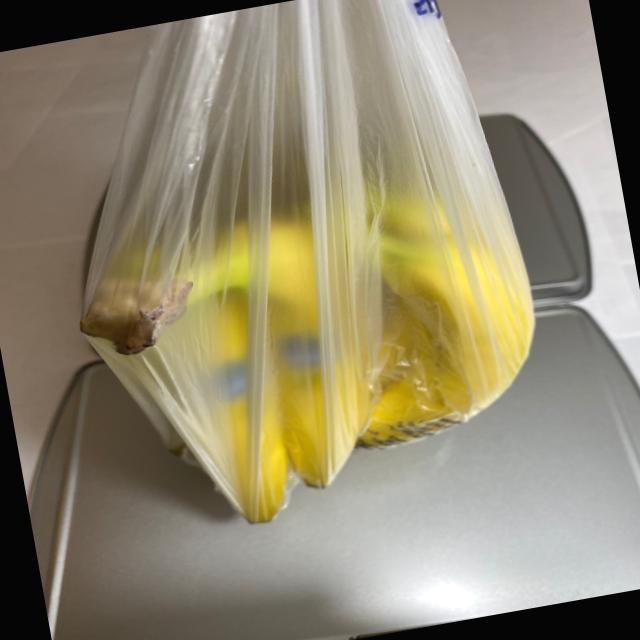banana: (56, 114, 570, 554)
